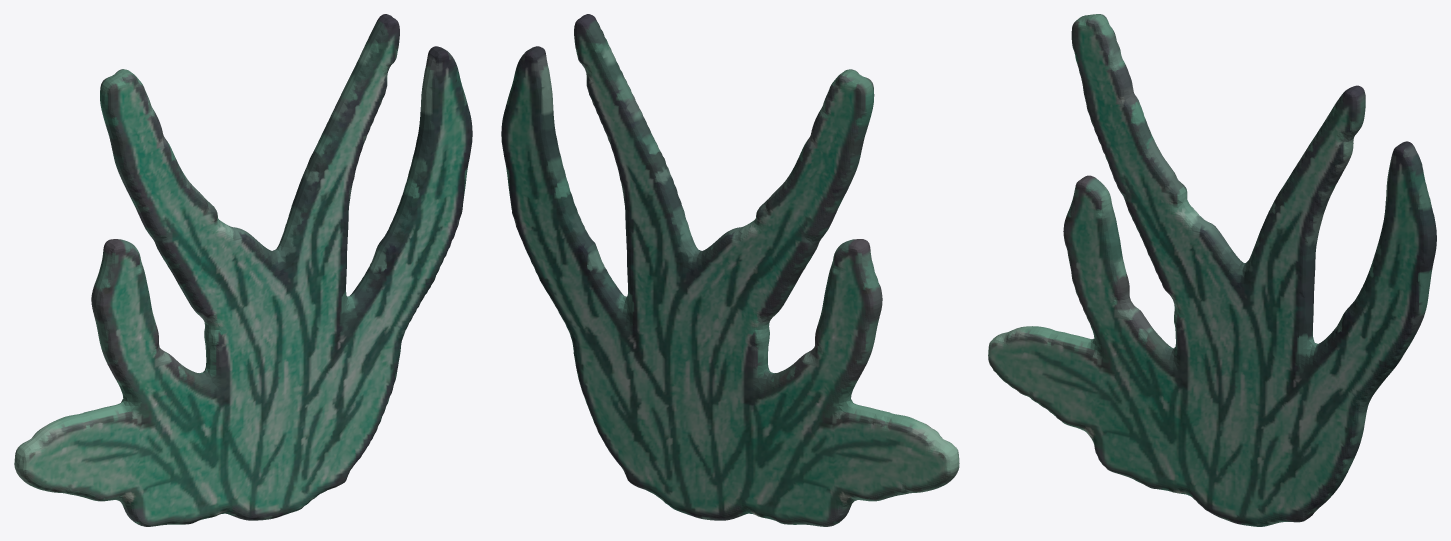
Rendered from seaweed.gltf.
3 renders of one model, left to right at view 1: azimuth 30°, elevation 25°; view 2: azimuth 150°, elevation 25°; view 3: azimuth 330°, elevation 25°, orthographic. The views are drawn at different scales.
Size of the model in its own units: 0.2231 by 0.2261 by 0.00997.
